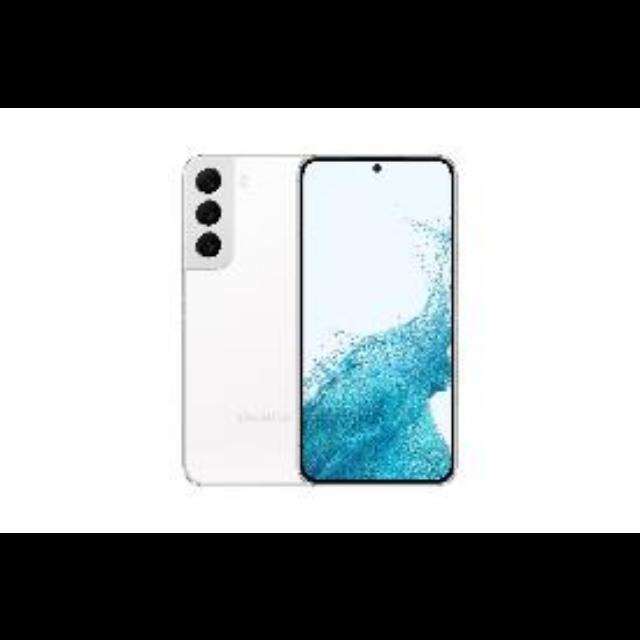PhoneUse: (302, 156, 456, 486), (182, 153, 298, 485)
